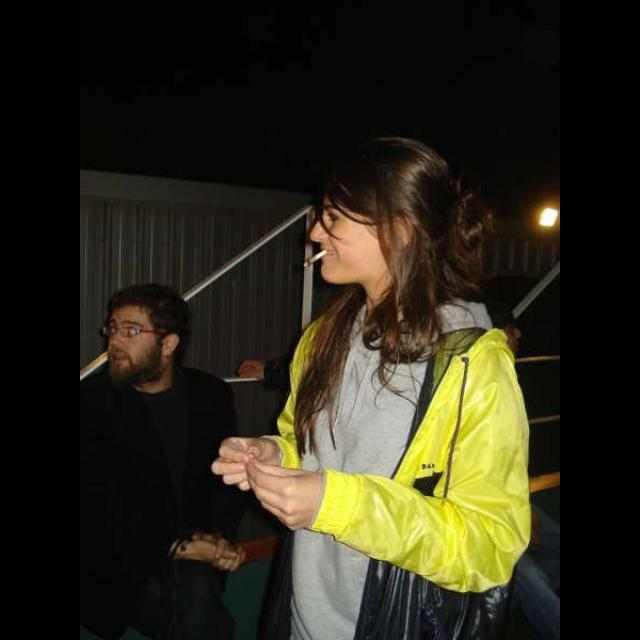rokok: (302, 246, 328, 268)
